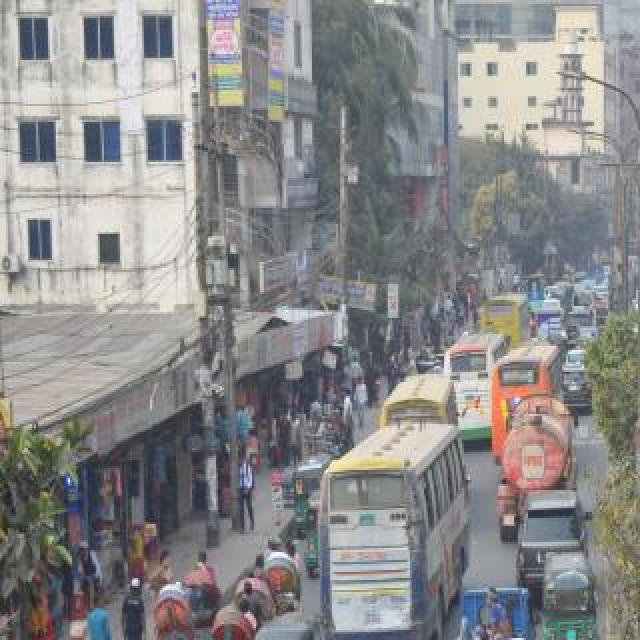bus: (318, 416, 470, 640), (443, 332, 507, 444), (493, 344, 557, 452), (384, 373, 460, 437), (482, 293, 532, 349)
car: (562, 364, 592, 412), (566, 310, 590, 340), (574, 326, 600, 352), (566, 348, 590, 368)
truck: (500, 394, 578, 524)
van: (520, 489, 592, 597), (440, 584, 534, 640), (535, 308, 563, 344), (518, 275, 544, 313), (570, 289, 596, 311)
